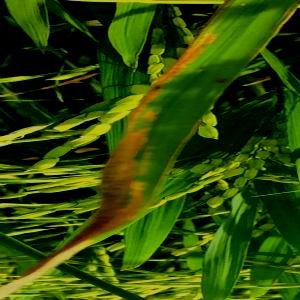2 BacterialBlight: (120, 107, 177, 210)
